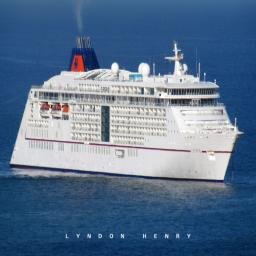cruises: (11, 24, 244, 188)
